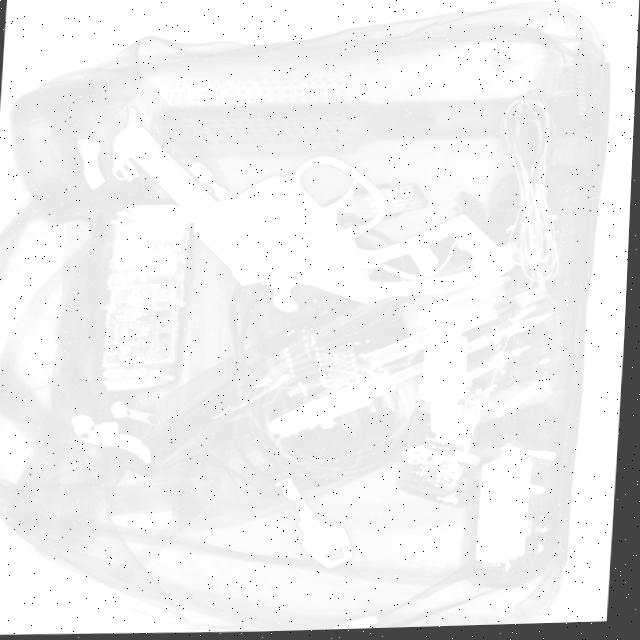pistol: (105, 117, 521, 323)
